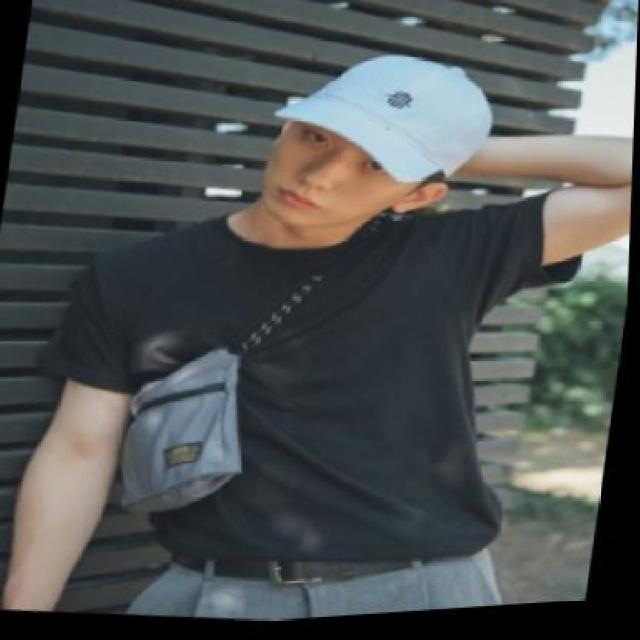hat: (273, 60, 494, 188)
